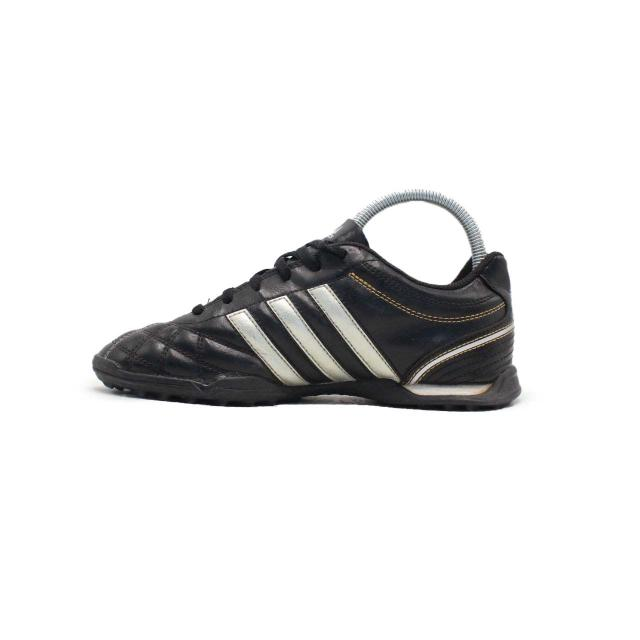heel: (463, 251, 513, 383)
midsole: (95, 352, 525, 408)
uppersole: (99, 225, 474, 384)
